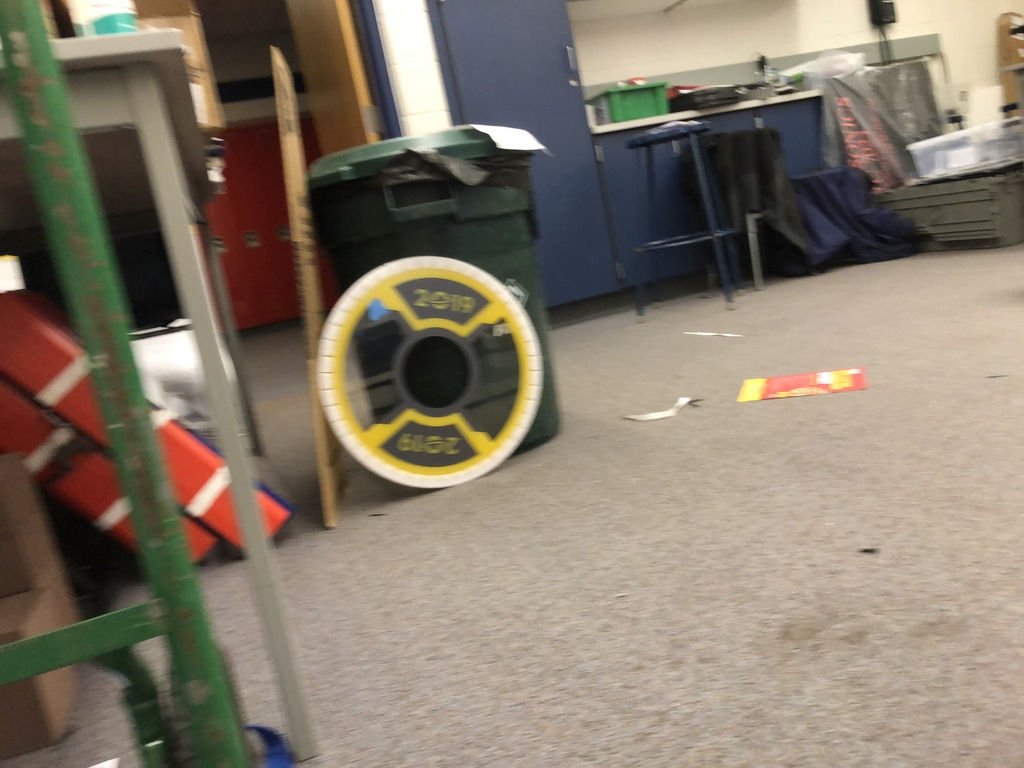hatch_panel: (303, 236, 564, 499)
